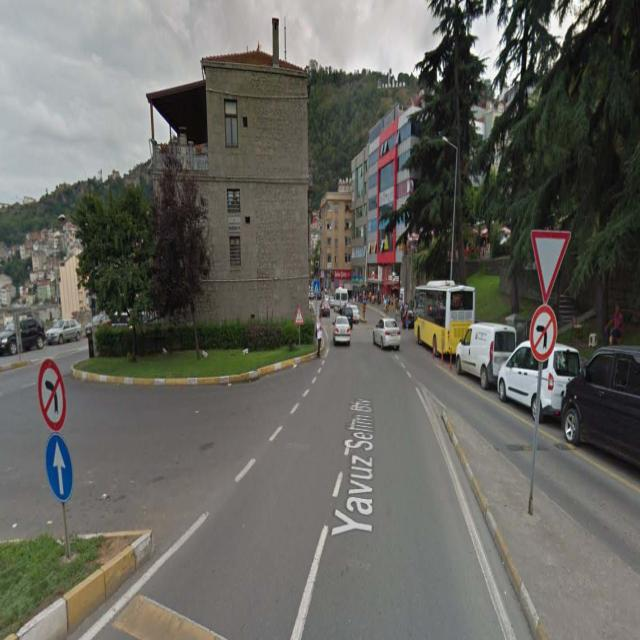soladonulmez: (38, 358, 66, 428), (530, 304, 556, 358)
